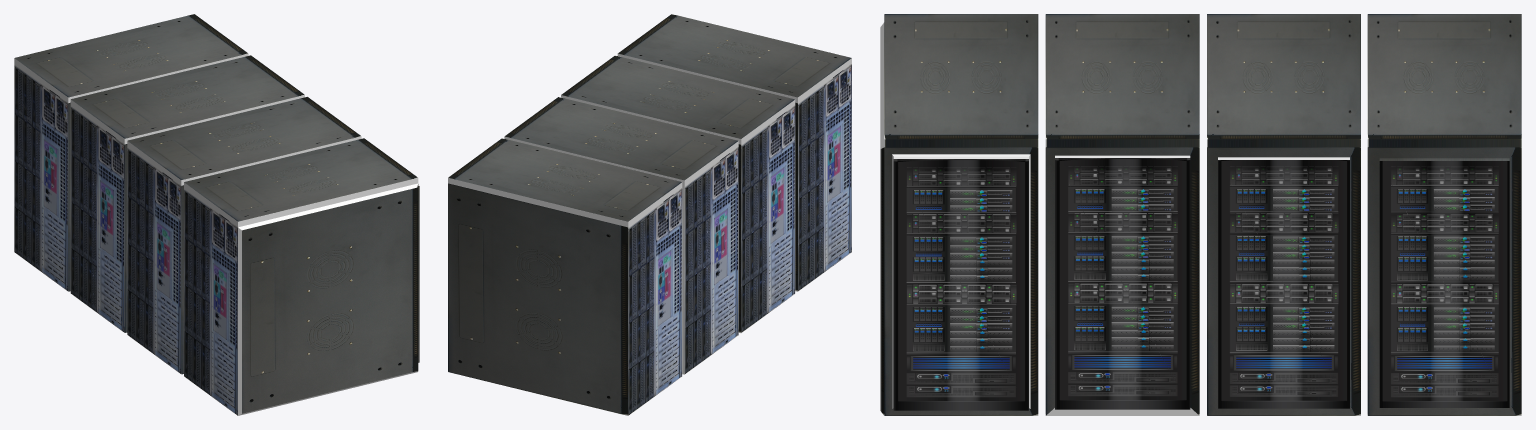
Rendered from server_computer.obj.
3 renders of one model, left to right at view 1: azimuth 30°, elevation 25°; view 2: azimuth 150°, elevation 25°; view 3: azimuth 270°, elevation 25°, orthographic. The views are drawn at different scales.
Visible parts, largest first — view 1: server; view 2: server; view 3: server.
Part boxes in pixels (<box>): server: <box>14,14,419,415</box>; server: <box>448,14,851,415</box>; server: <box>880,14,1521,415</box>.
Size of the model in its own units: 205 by 206 by 433.
4 materials, 3 textured.
